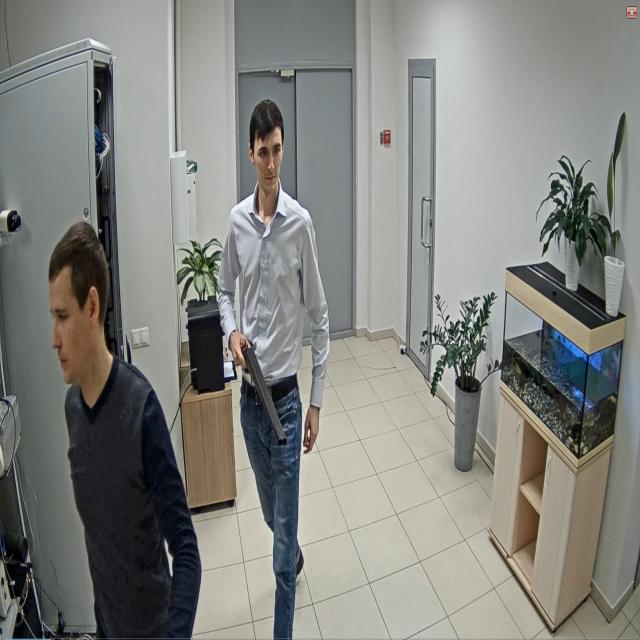-Gun: (240, 338, 286, 444)
